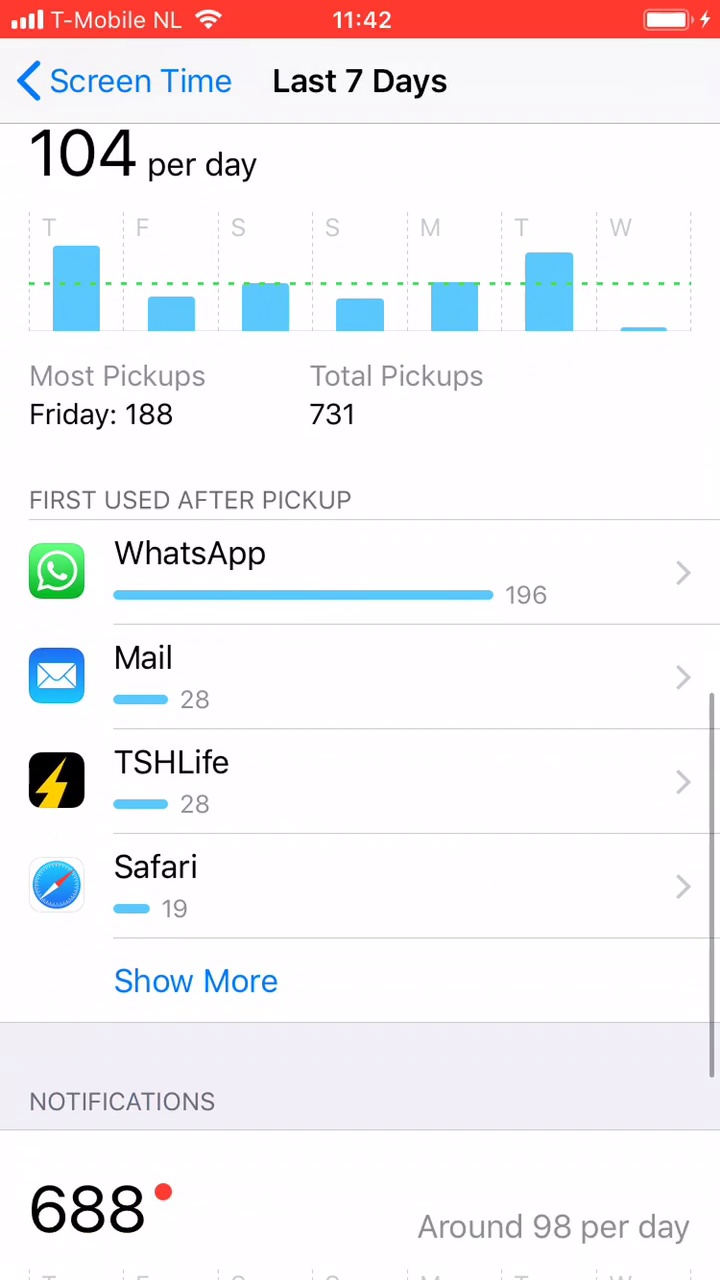pick_app: (28, 533, 573, 617), (25, 733, 284, 824), (17, 635, 287, 716), (28, 844, 256, 921)
pick_over: (26, 357, 531, 453)
week: (256, 65, 468, 103)
